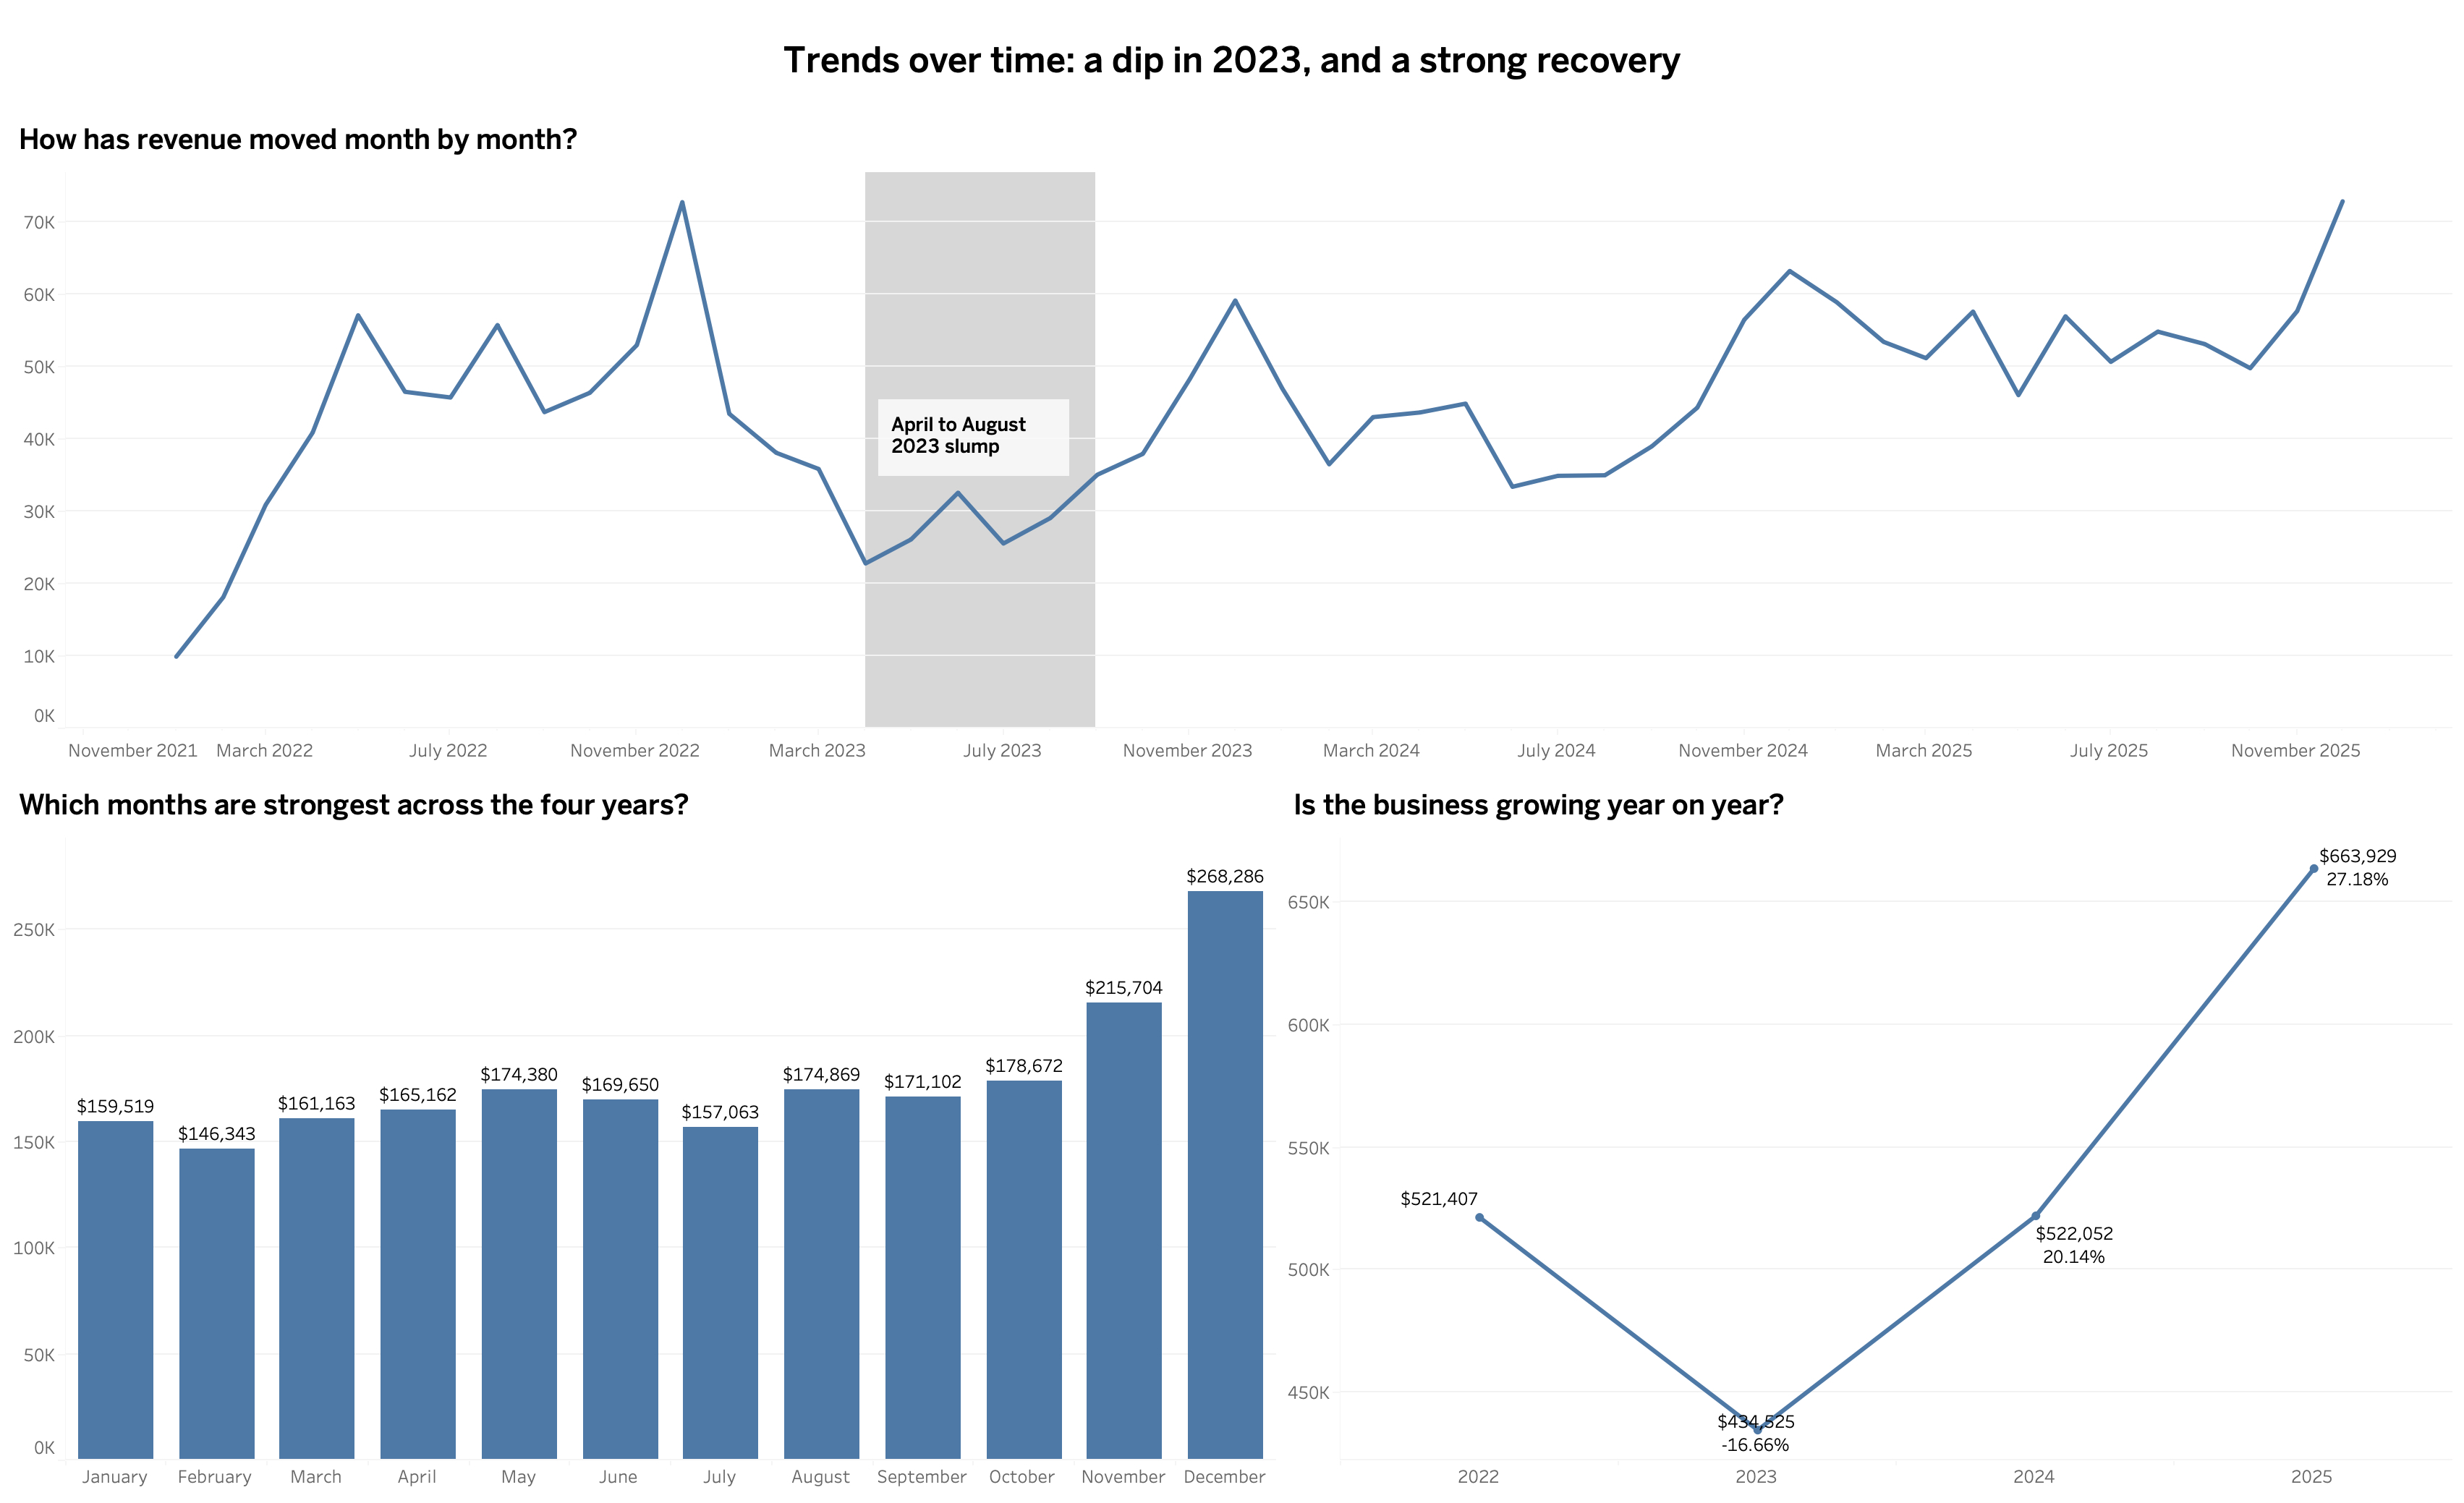

This screenshot's page, from the dashboard's own definition file:
{"tool":"tableau","page":{"name":"Trends Over Time","canvas":[1000,1000],"units":"permille","ordinal":4},"visuals":[{"type":"title","box":[5.3,9.2,989.3,81.9]},{"type":"worksheet","title":"04 Q1 Monthly Trend","mark":"Line","rows":["Calculation_0091241463054336"],"cols":["order_date"],"box":[5.3,91.1,989.3,432.4]},{"type":"worksheet","title":"04 Q3 Seasonality","mark":"Bar","rows":["Calculation_0091241463054336"],"cols":["order_date"],"box":[5.3,523.6,514.7,467.2]},{"type":"worksheet","title":"04 Q2 Yearly Growth","mark":"Automatic","rows":["Calculation_0091241463054336"],"cols":["order_date"],"box":[520,523.6,474.6,467.2]}]}

Visuals, with their boxes on the dashboard's canvas, which has no fixed pixel size, in thousandths of its width and height (x1, y1, x2, y2). These are canvas units, not pixel positions in the 2464x1503 screenshot, which may show the page scaled, cropped or inside an application window:
title: (5, 9, 995, 91)
"04 Q1 Monthly Trend" worksheet (Line marks): (5, 91, 995, 524)
"04 Q3 Seasonality" worksheet (Bar marks): (5, 524, 520, 991)
"04 Q2 Yearly Growth" worksheet: (520, 524, 995, 991)
